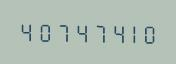four: (17, 18, 33, 43), (68, 19, 84, 43), (102, 20, 118, 44)
one: (119, 20, 135, 44)
seven: (85, 19, 101, 44), (51, 19, 67, 43)
zero: (136, 20, 152, 45), (34, 19, 50, 43)
